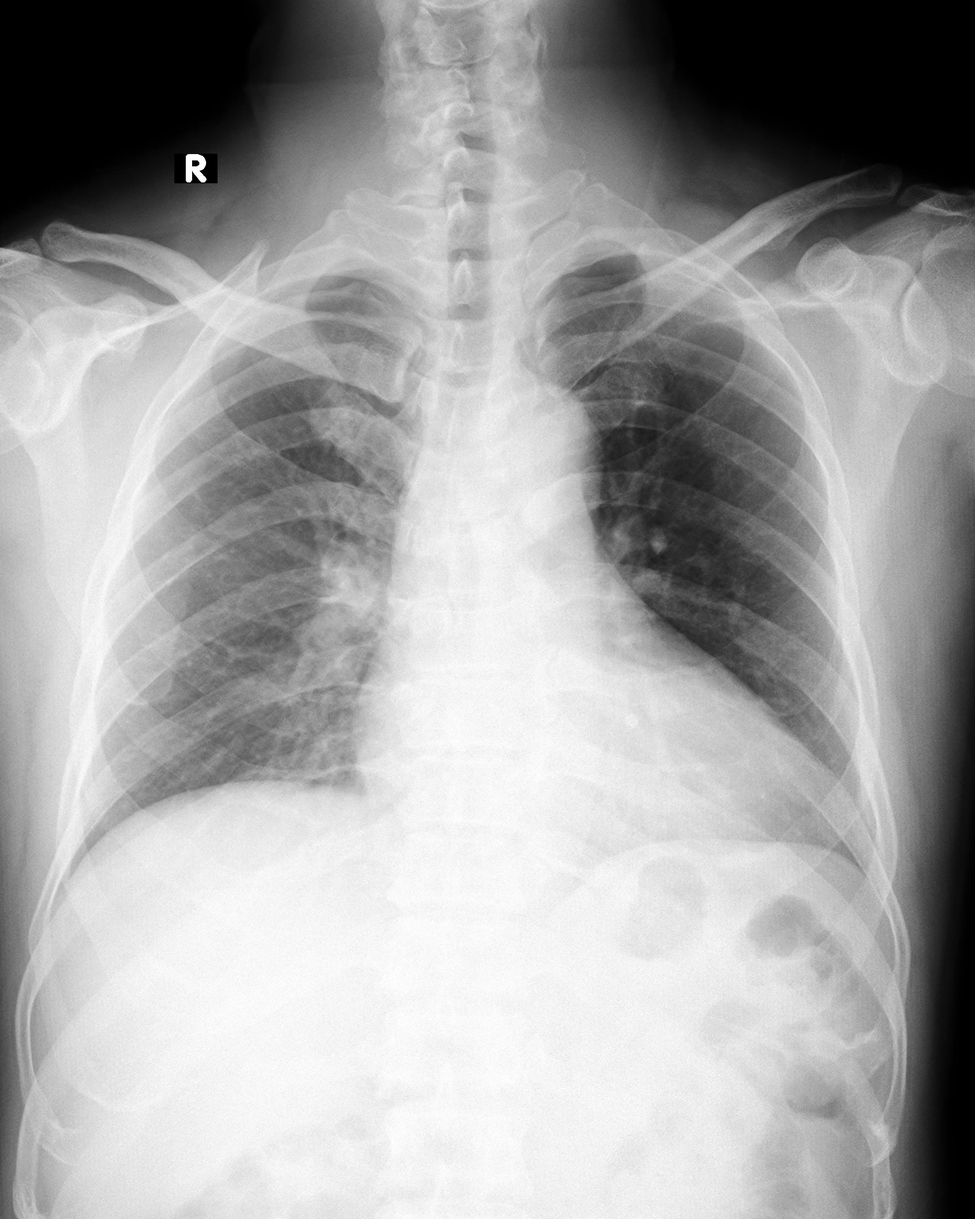Aortic enlargement: (487, 384, 598, 496)
Cardiomegaly: (348, 692, 831, 843)
